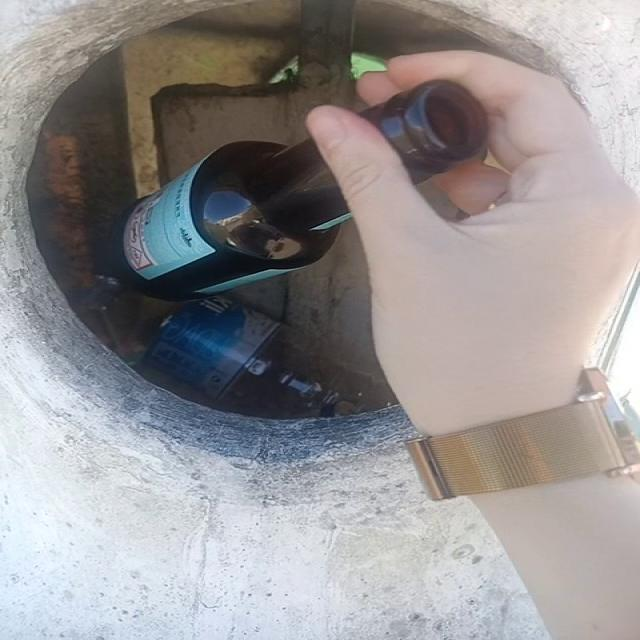glass: (113, 139, 349, 300), (360, 80, 488, 182)
